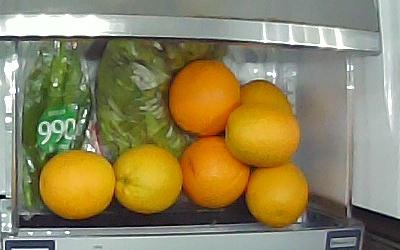orange: (167, 57, 241, 136), (38, 148, 116, 219), (178, 134, 251, 207), (223, 101, 301, 167), (111, 143, 184, 213), (244, 159, 309, 226), (239, 78, 293, 118)
